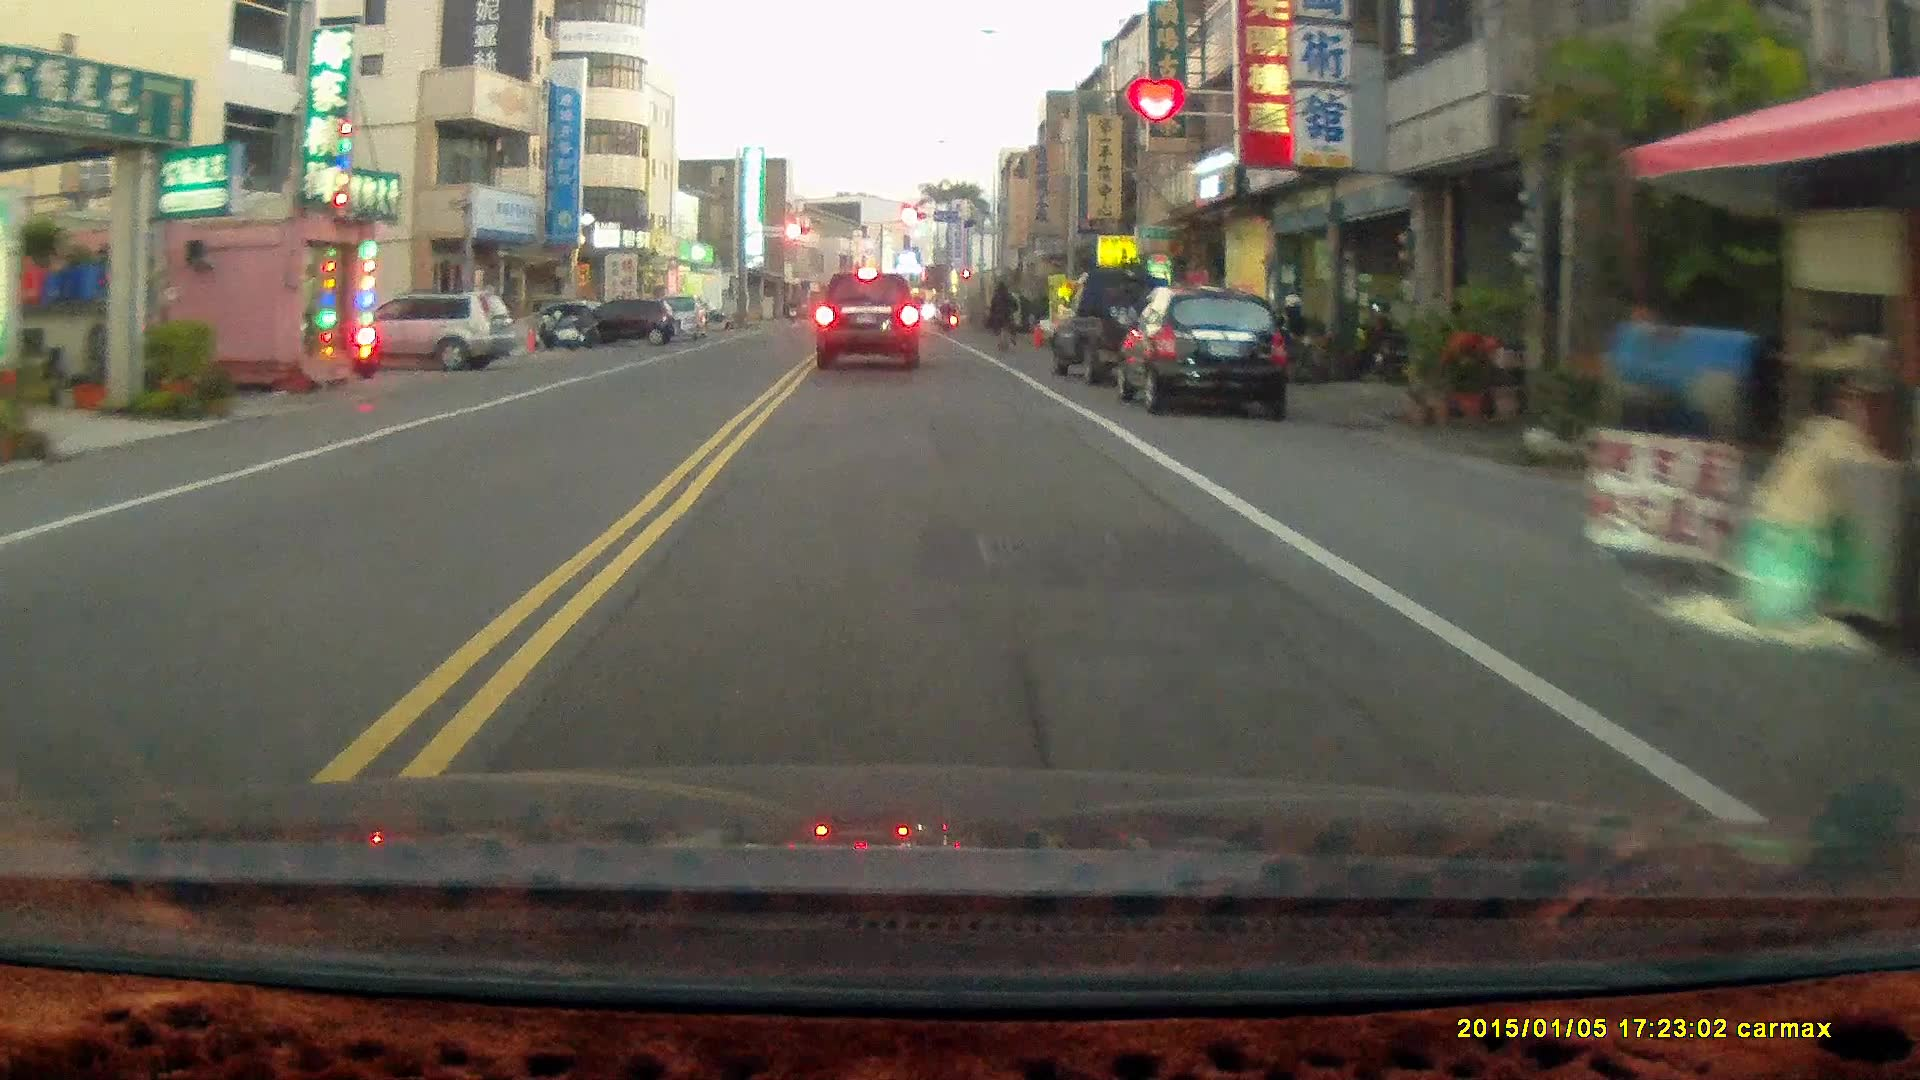rider: (987, 278, 1019, 353)
vehicle: (1128, 282, 1301, 411), (1050, 263, 1210, 384), (320, 294, 516, 377), (815, 265, 924, 370), (555, 296, 678, 344)
